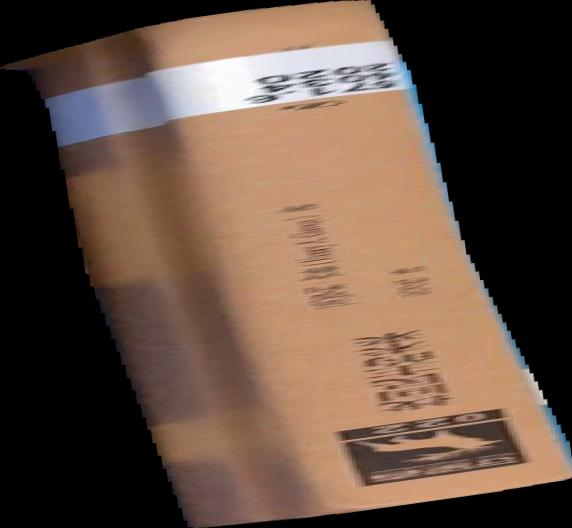reverse: (1, 1, 572, 528)
